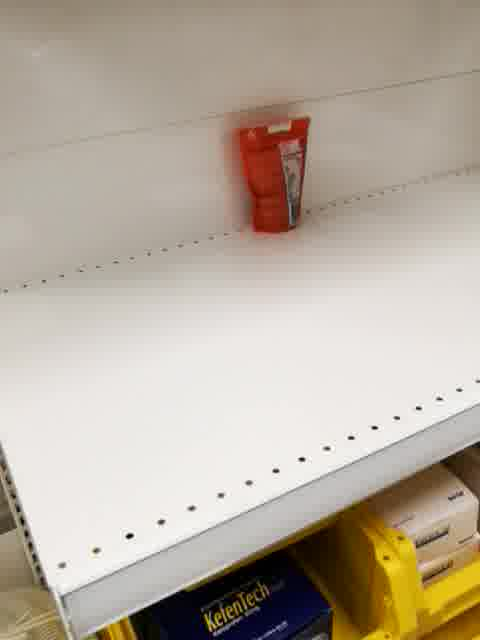whitechia: (226, 111, 313, 238)
